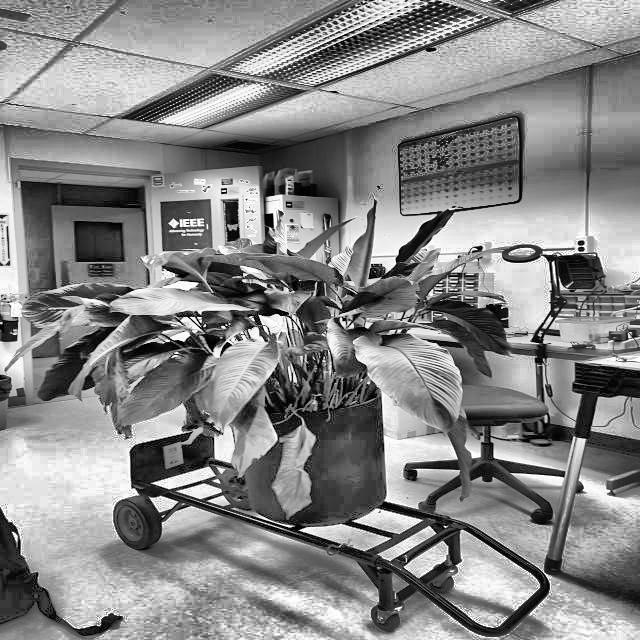plants: (142, 258, 476, 410)
